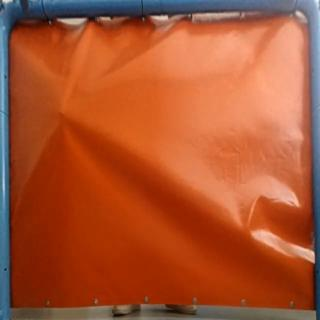Hit-hRxx: (54, 105, 69, 124)
